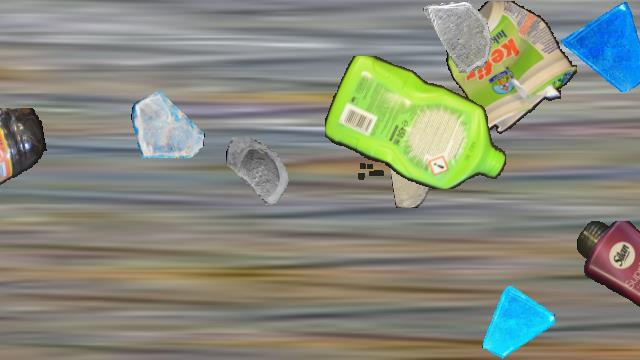glass: (561, 1, 640, 91), (225, 137, 301, 213), (131, 88, 205, 162), (480, 285, 554, 359), (423, 1, 495, 73)
plastic: (325, 56, 507, 188), (445, 1, 577, 139), (576, 221, 640, 359), (0, 108, 49, 248)
wood: (391, 134, 429, 208)
